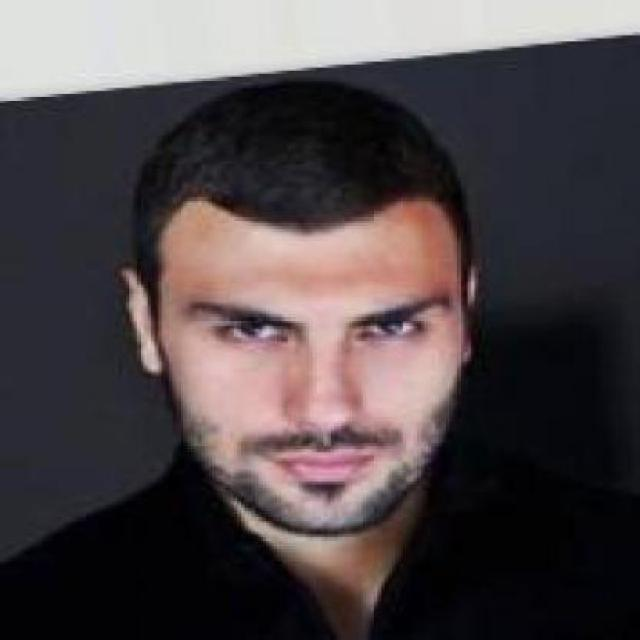closed-mouth: (278, 453, 376, 476)
